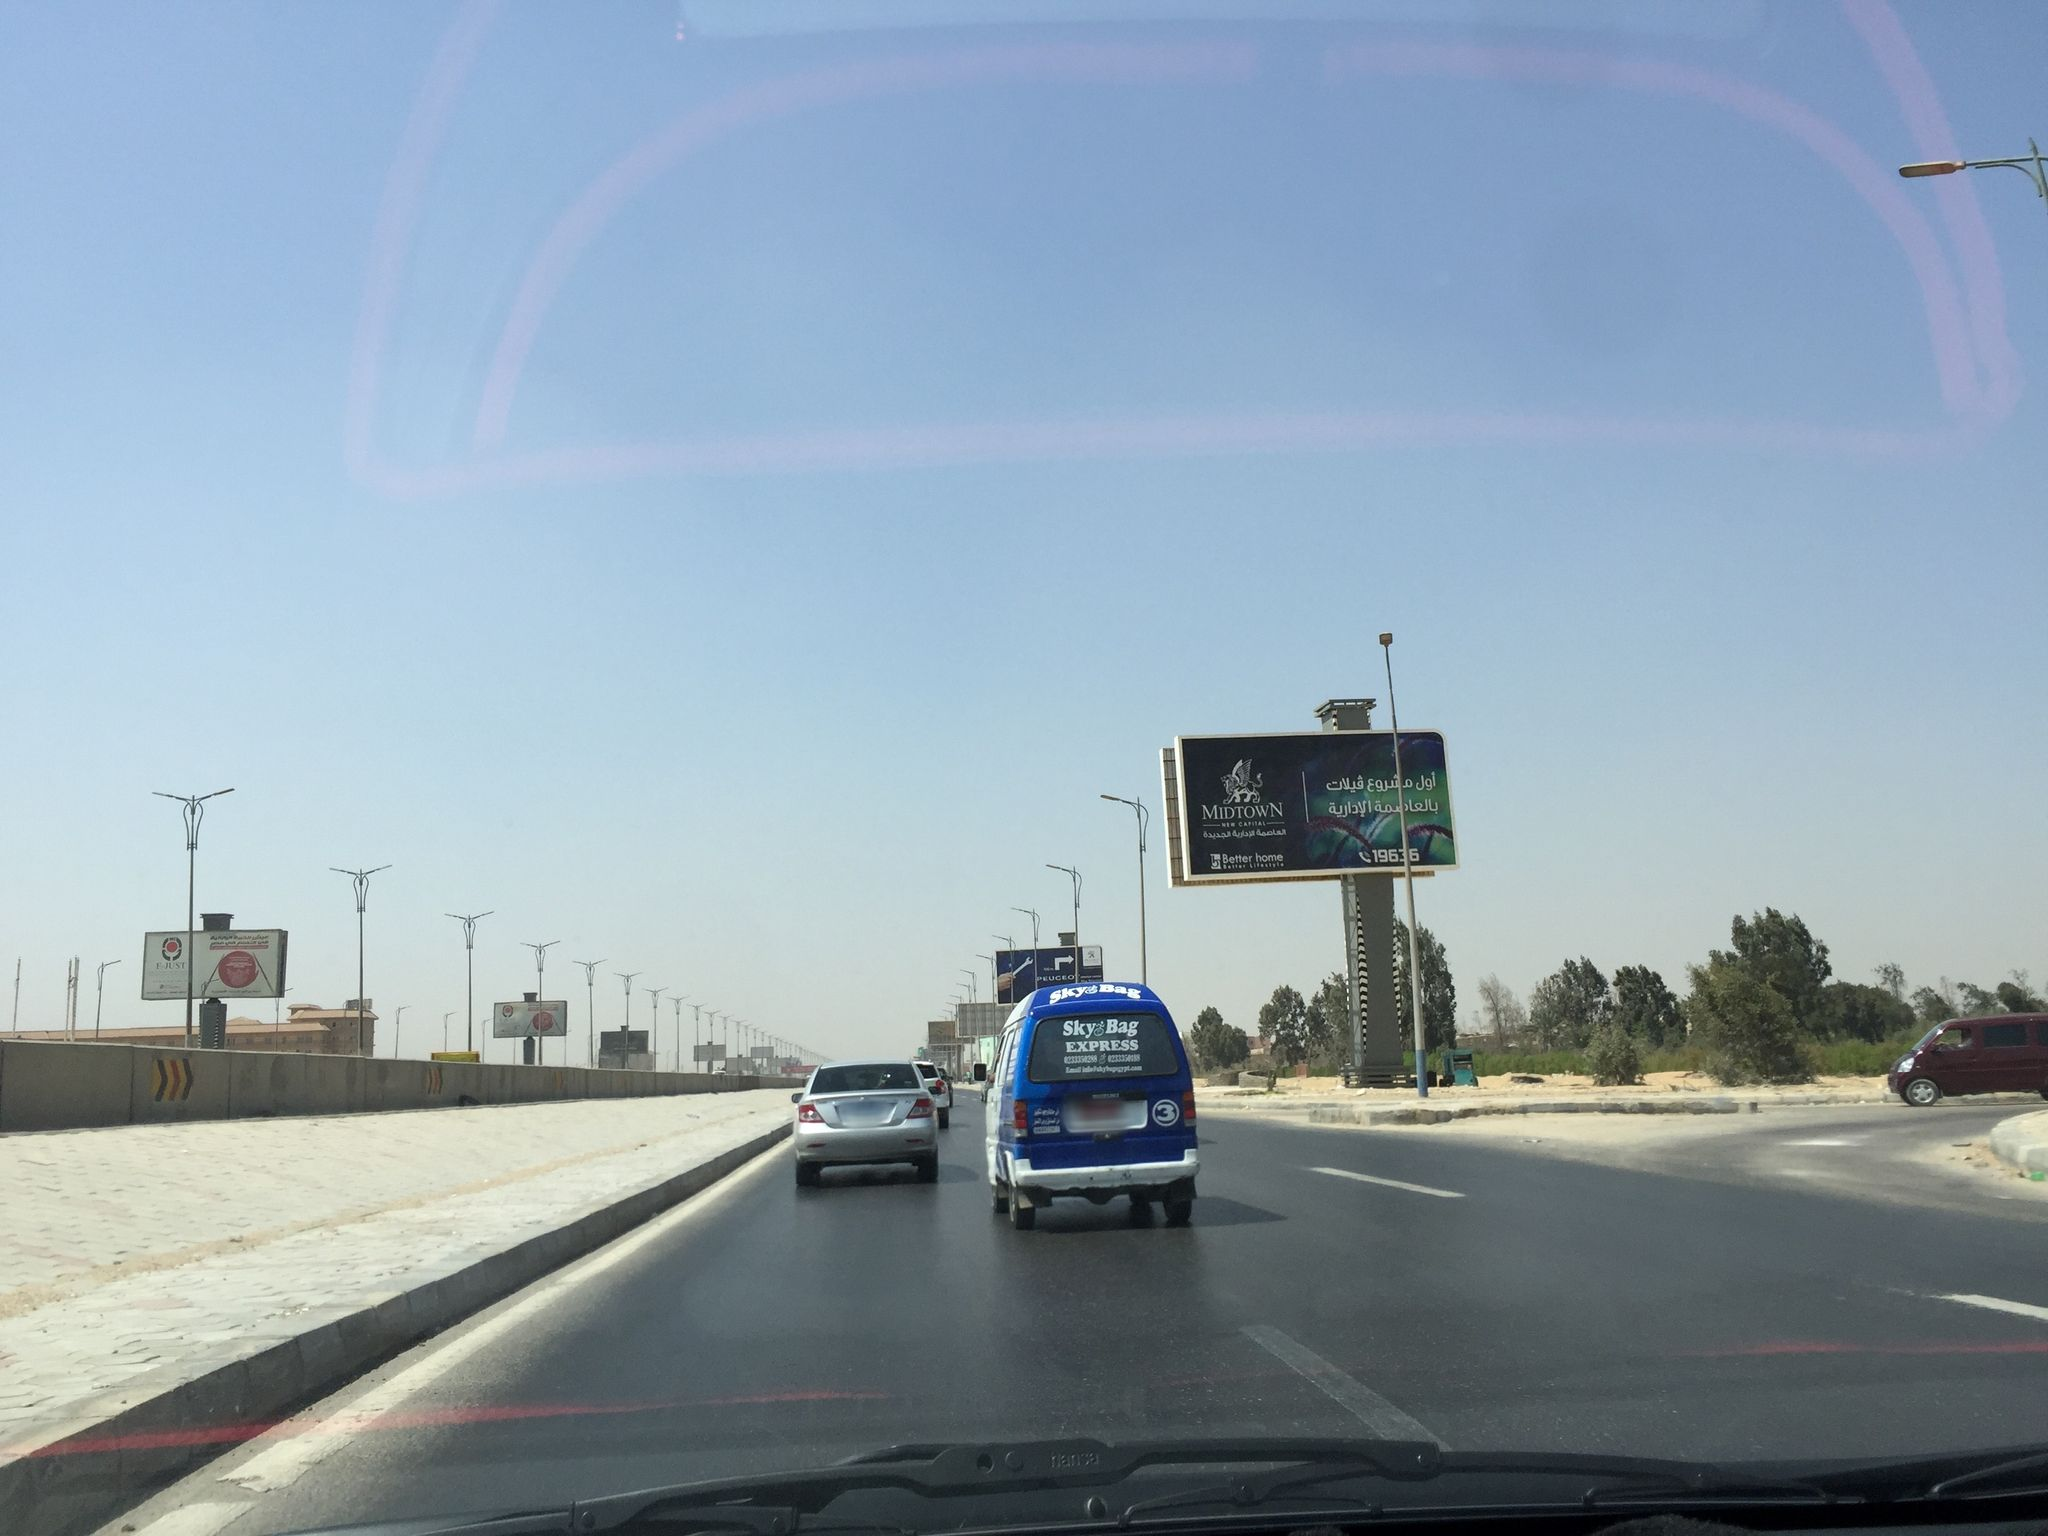car: (972, 981, 1200, 1229), (790, 1057, 942, 1184), (1887, 1012, 2046, 1105), (913, 1058, 951, 1129)
